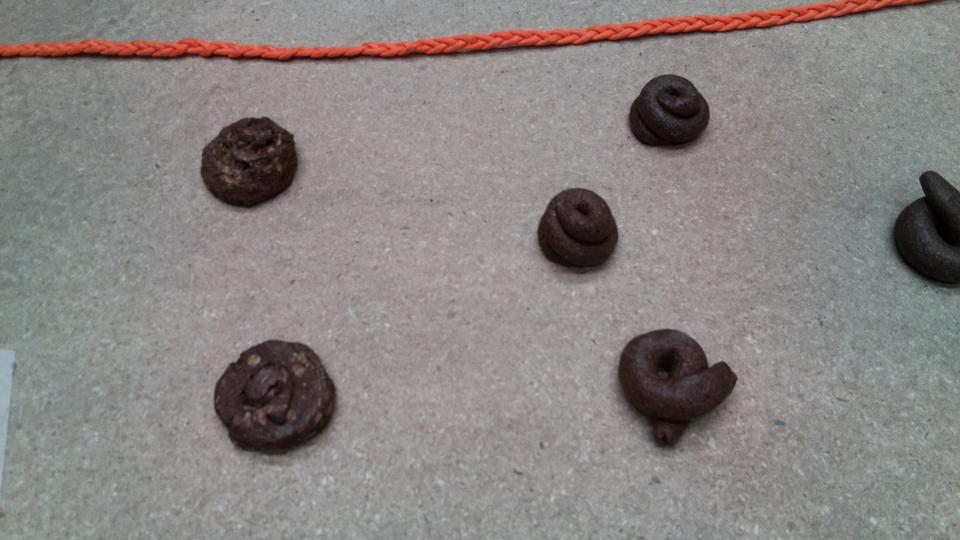poop: (206, 334, 347, 456), (622, 328, 737, 453), (528, 184, 631, 274), (893, 169, 960, 302), (202, 116, 299, 207), (631, 75, 713, 152)
rope: (1, 25, 625, 70), (572, 15, 864, 59), (710, 1, 956, 37)
